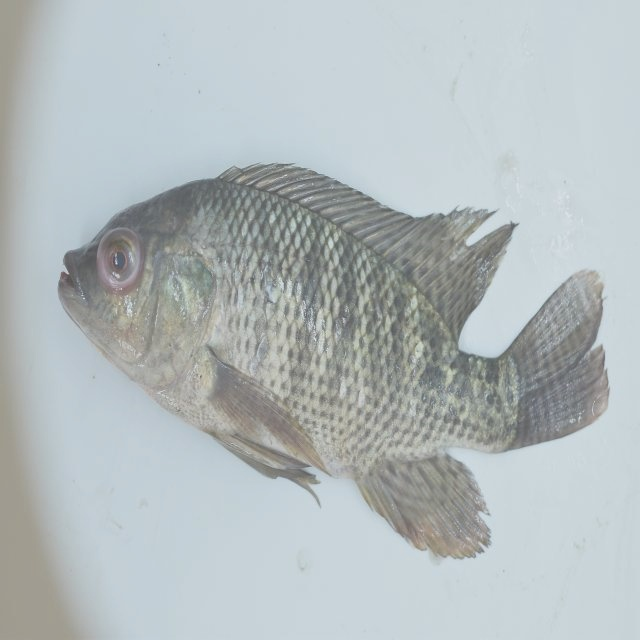Columnaris Disease: (46, 147, 614, 559)
